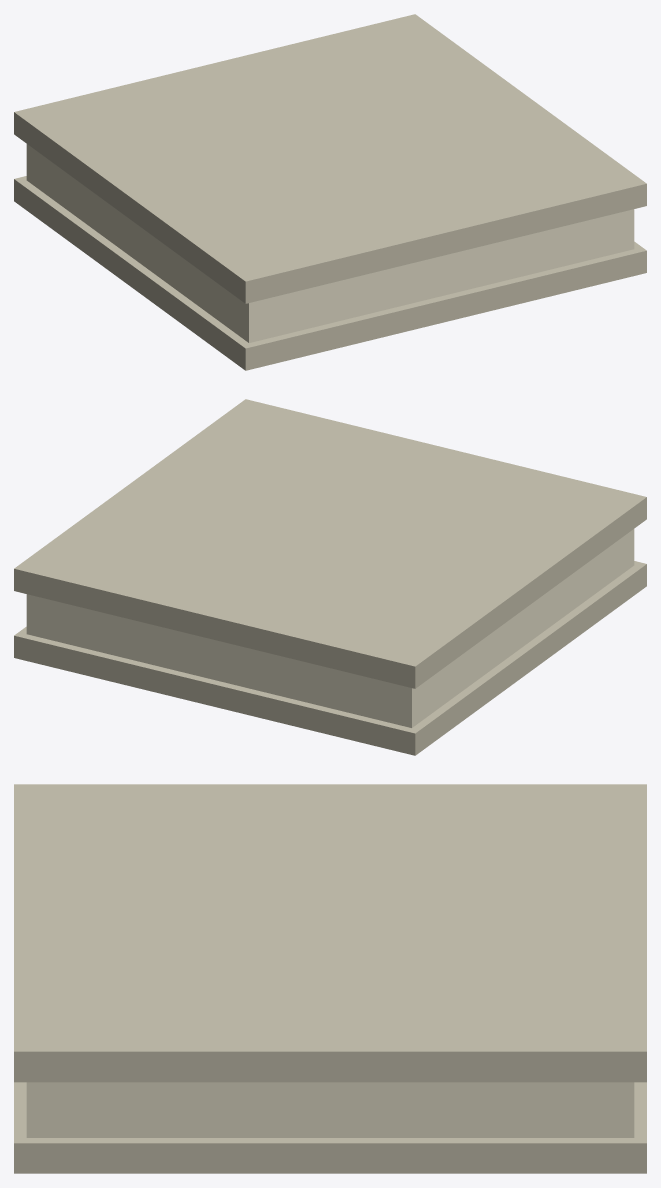
The model's file is building_002.fbx.
The picture shows the model from 3 angles, top to bottom: view 1: azimuth 30°, elevation 25°; view 2: azimuth 150°, elevation 25°; view 3: azimuth 270°, elevation 25°; orthographic projection. The views are drawn at different scales.
Parts seen in each view (by area): view 1: building_002; view 2: building_002; view 3: building_002.
Boxes of the visible parts, left/top/right/bottom form: building_002: left=14, top=14, right=646, bottom=370; building_002: left=14, top=399, right=646, bottom=755; building_002: left=14, top=784, right=646, bottom=1173.
Size of the model in its own units: 10 by 2.12 by 10.
